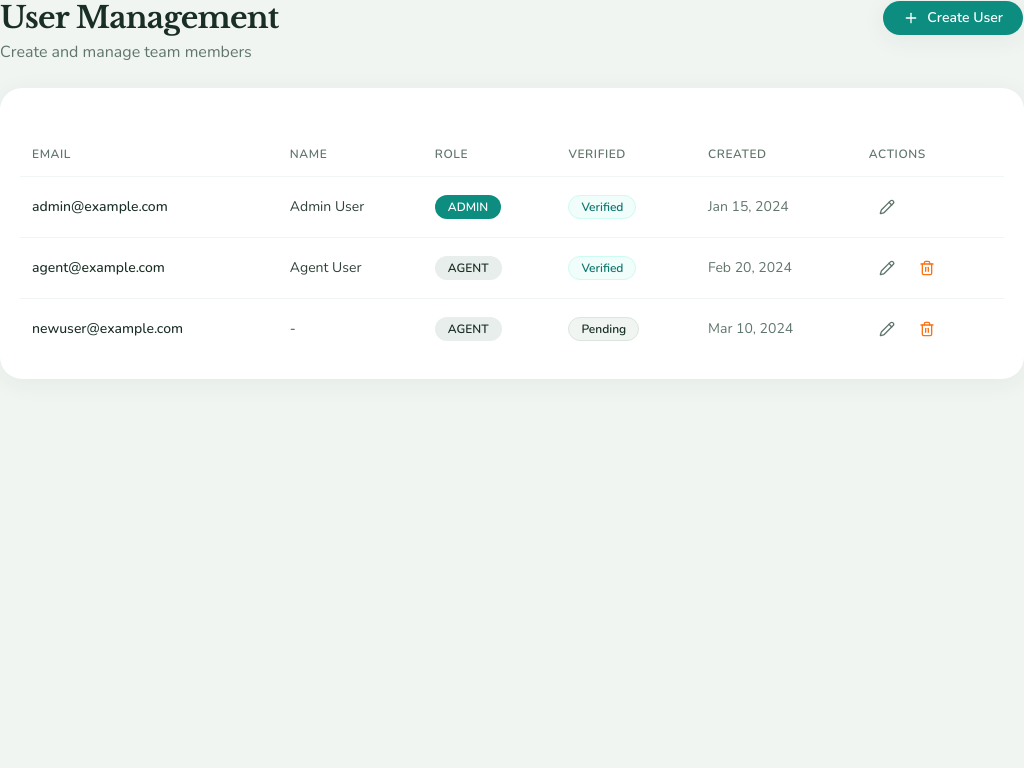
it: UsersPage - Deletion › opens delete confirmation modal when delete button is clicked
The width and height of the screenshot is (1024, 768).
Click delete button for agent user
Click the button named "delete agent user" at (927, 268), box [909,250,945,286]
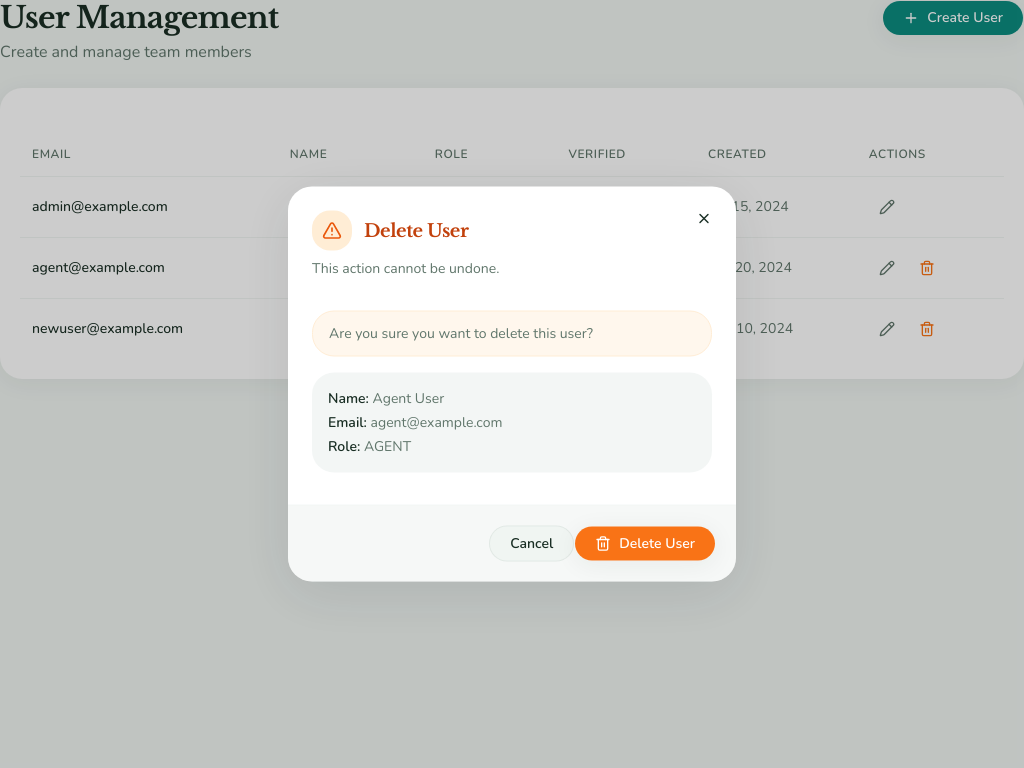
Result: the text "This action cannot be undone." is shown at [312,258,499,278]
